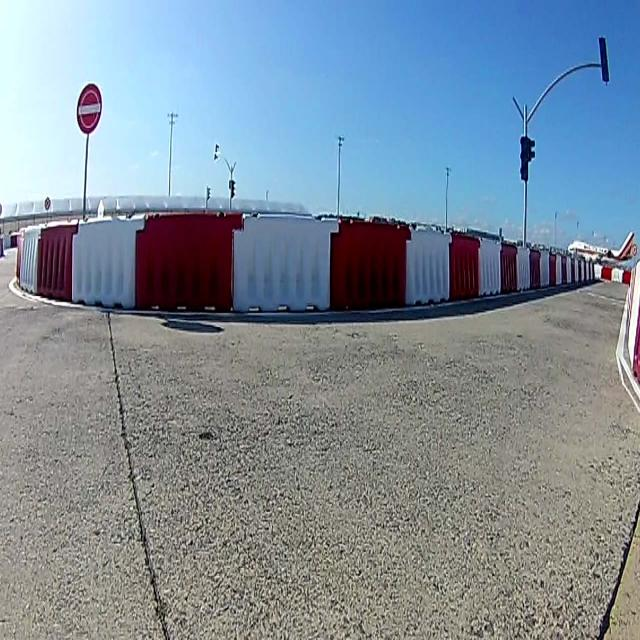girisyok: (78, 84, 102, 132)
